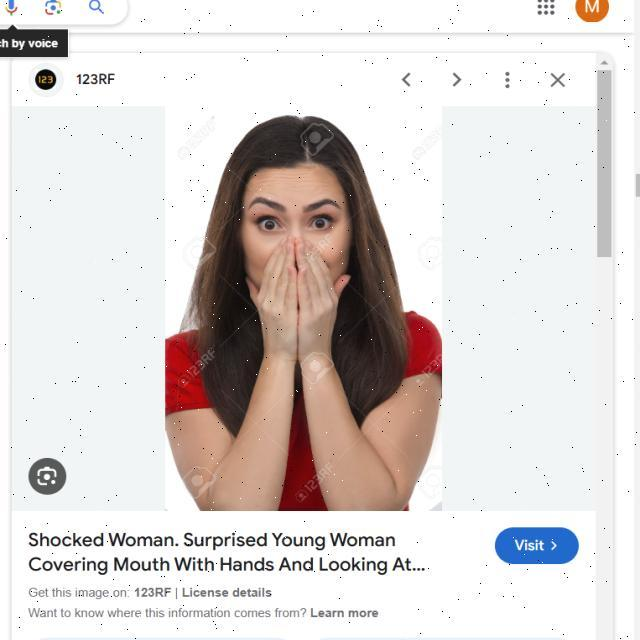face_with_hand: (235, 160, 359, 322)
